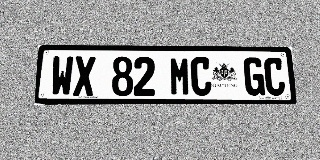2: (134, 57, 155, 96)
8: (112, 56, 133, 96)
C: (264, 57, 286, 96), (191, 57, 212, 96)
G: (243, 57, 265, 96)
M: (170, 57, 191, 96)
W: (50, 56, 74, 96)
X: (73, 56, 96, 96)
